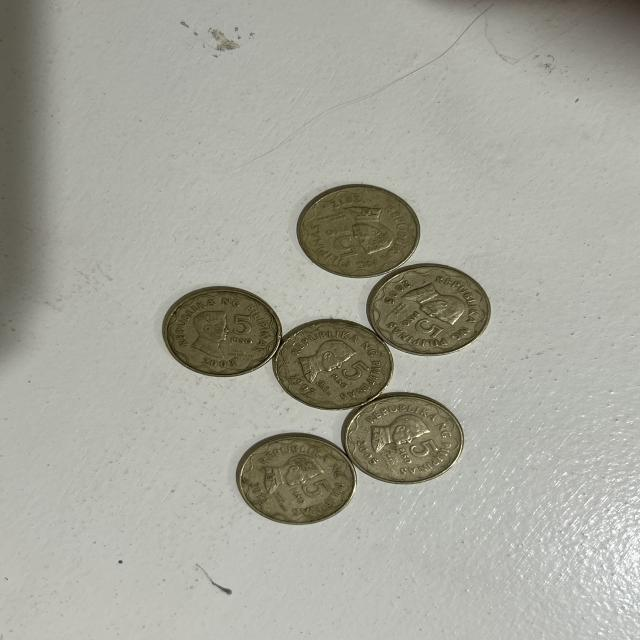5_Old_Front: (327, 359, 378, 394), (385, 438, 442, 467), (400, 309, 448, 343), (320, 225, 361, 260), (224, 312, 260, 347), (281, 478, 331, 503)
